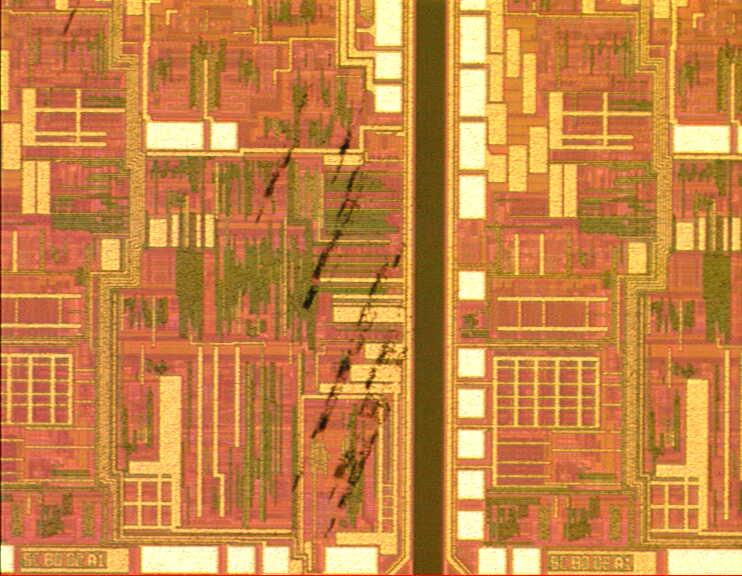SCRATCH: (52, 1, 420, 553)
